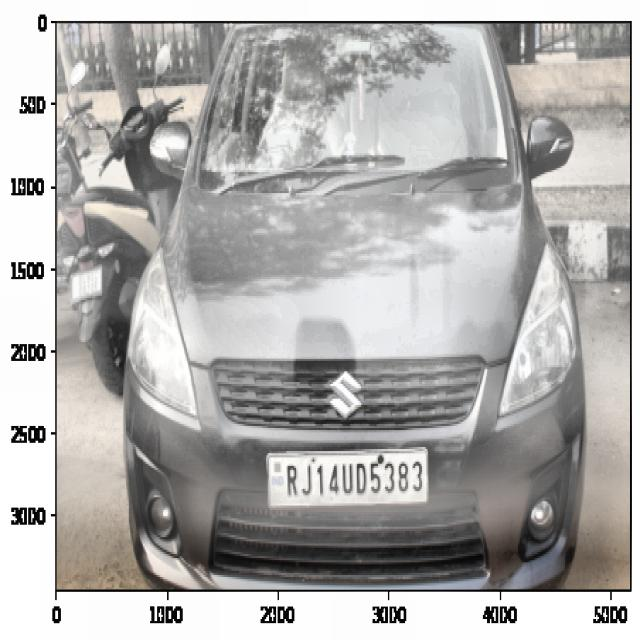license_plate: (282, 452, 429, 503)
